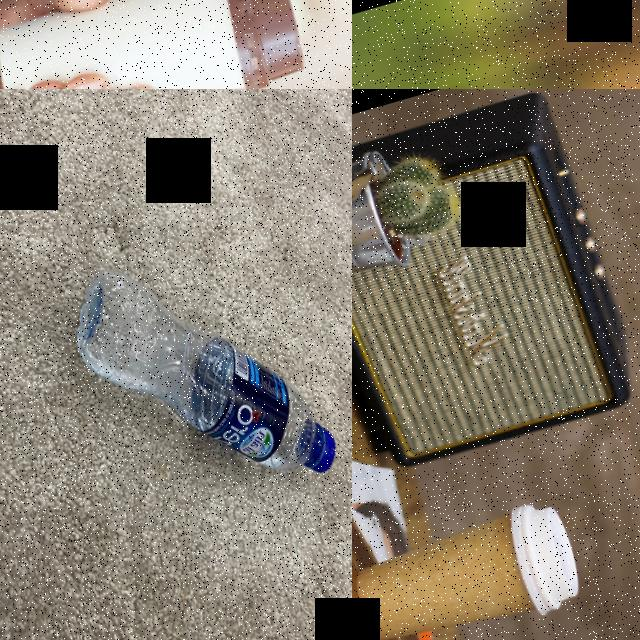bottle: (56, 219, 352, 532)
cup: (352, 496, 586, 640), (0, 0, 314, 89)
